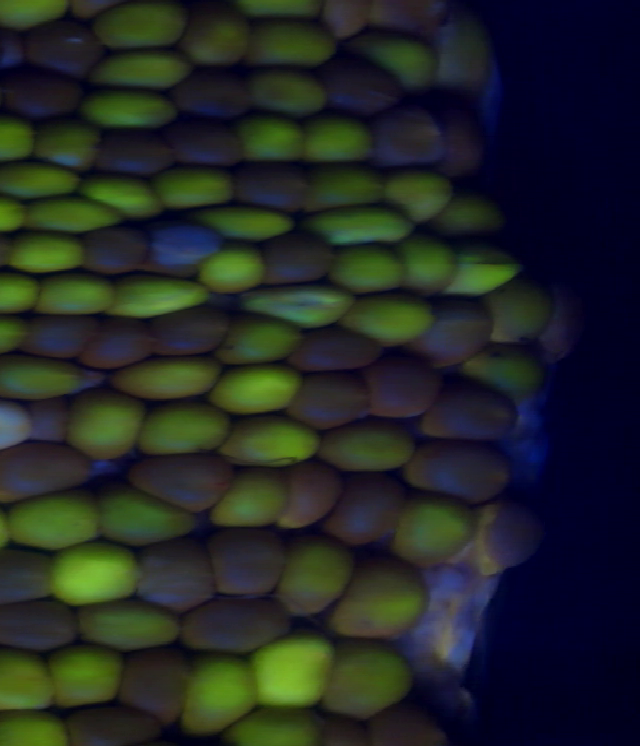fluorescent: (336, 567, 428, 641), (258, 631, 335, 714), (331, 642, 410, 718), (101, 487, 196, 546), (244, 14, 344, 70), (394, 505, 480, 570), (52, 548, 144, 607), (1, 498, 107, 549), (113, 353, 220, 403), (179, 656, 253, 728), (101, 274, 215, 319), (342, 297, 441, 348), (46, 646, 124, 710), (324, 421, 418, 473), (70, 607, 186, 649), (248, 283, 355, 328), (73, 391, 148, 455), (486, 286, 555, 352), (284, 535, 341, 614), (148, 400, 228, 455), (90, 5, 186, 50), (205, 474, 289, 524), (469, 350, 551, 401), (218, 365, 296, 418), (436, 17, 494, 88), (363, 34, 436, 88), (0, 359, 87, 404), (251, 73, 336, 119), (329, 243, 410, 291), (98, 50, 186, 94), (152, 169, 241, 212), (18, 195, 124, 231), (317, 204, 414, 243), (35, 277, 115, 324), (242, 114, 308, 170), (235, 428, 322, 470), (448, 249, 524, 297), (0, 163, 82, 207), (0, 650, 58, 712), (189, 7, 249, 63), (32, 118, 94, 172), (387, 173, 455, 222), (11, 232, 87, 272), (86, 177, 156, 218), (225, 322, 296, 362), (307, 124, 372, 167), (207, 248, 269, 293), (441, 200, 505, 243), (204, 208, 287, 241), (315, 170, 384, 208), (404, 242, 452, 293), (235, 714, 304, 746), (0, 267, 45, 315), (0, 715, 64, 746), (0, 118, 36, 170), (0, 1, 53, 31), (239, 1, 325, 19)
nonfluorescent: (180, 594, 293, 652), (211, 524, 289, 605), (132, 535, 214, 608), (0, 442, 103, 500), (407, 438, 505, 497), (314, 55, 404, 118), (124, 459, 225, 515), (328, 477, 407, 548), (442, 379, 517, 446), (0, 595, 83, 655), (118, 648, 190, 714), (373, 349, 434, 426), (144, 305, 220, 363), (8, 26, 100, 72), (67, 701, 160, 746), (291, 329, 373, 377), (80, 222, 151, 277), (428, 303, 489, 367), (5, 66, 80, 118), (177, 69, 252, 121), (435, 100, 483, 179), (232, 163, 311, 210), (379, 98, 432, 167), (86, 318, 151, 374), (293, 380, 372, 426), (170, 128, 248, 174), (103, 128, 176, 177), (280, 455, 327, 531), (365, 704, 449, 746), (365, 1, 453, 41), (260, 238, 331, 287), (25, 308, 87, 362), (0, 543, 53, 604), (318, 1, 370, 46), (31, 401, 73, 455), (318, 710, 372, 746)
